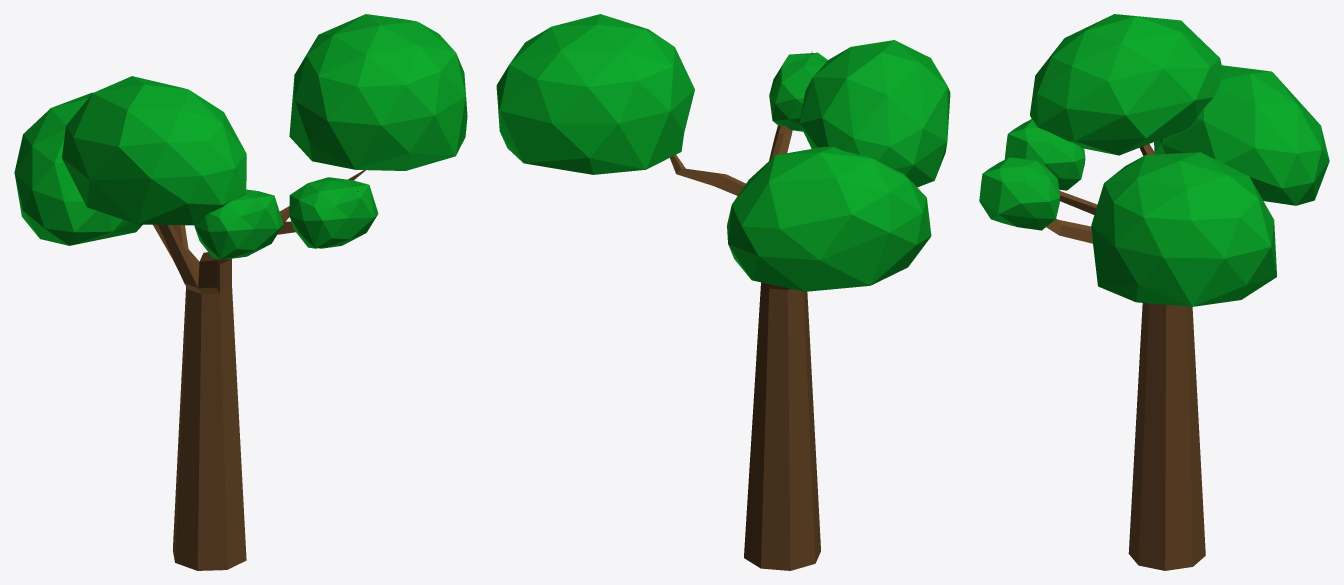
File: treeb2.glb
3 renders of one model, left to right at view 1: azimuth 30°, elevation 25°; view 2: azimuth 150°, elevation 25°; view 3: azimuth 270°, elevation 25°, orthographic. The views are drawn at different scales.
Parts seen in each view (by area): view 1: Icosphere, Icosphere.018, Cylinder.024, Icosphere.004, Icosphere.008, Icosphere.017; view 2: Icosphere, Icosphere.004, Cylinder.024, Icosphere.018, Icosphere.008; view 3: Icosphere, Icosphere.018, Cylinder.024, Icosphere.004, Icosphere.008, Icosphere.017.
Boxes of the visible parts, left/top/right/bottom form: Icosphere: left=289, top=14, right=467, bottom=170; Icosphere.018: left=62, top=76, right=246, bottom=225; Cylinder.024: left=153, top=170, right=365, bottom=570; Icosphere.004: left=14, top=92, right=142, bottom=245; Icosphere.008: left=289, top=177, right=378, bottom=248; Icosphere.017: left=194, top=189, right=283, bottom=259; Icosphere: left=496, top=14, right=694, bottom=174; Icosphere.004: left=727, top=146, right=931, bottom=291; Cylinder.024: left=670, top=51, right=820, bottom=570; Icosphere.018: left=799, top=40, right=950, bottom=187; Icosphere.008: left=769, top=52, right=827, bottom=131; Icosphere: left=1091, top=152, right=1276, bottom=306; Icosphere.018: left=1030, top=14, right=1223, bottom=155; Cylinder.024: left=991, top=144, right=1205, bottom=570; Icosphere.004: left=1154, top=65, right=1329, bottom=205; Icosphere.008: left=979, top=157, right=1059, bottom=230; Icosphere.017: left=1004, top=119, right=1085, bottom=190.
Bounding box in the file's own units: 11.74 × 13.55 × 8.63.
